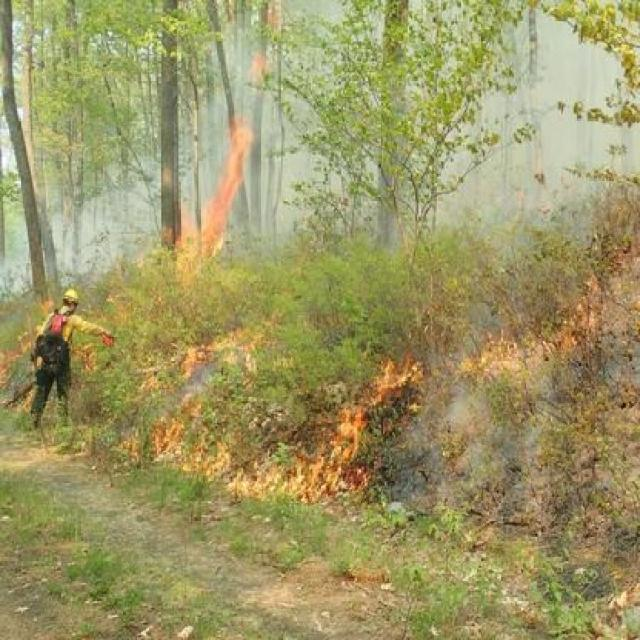Fire: (156, 314, 414, 509), (180, 106, 258, 272), (458, 306, 594, 373), (591, 206, 640, 308), (1, 286, 52, 380), (247, 0, 280, 80)
